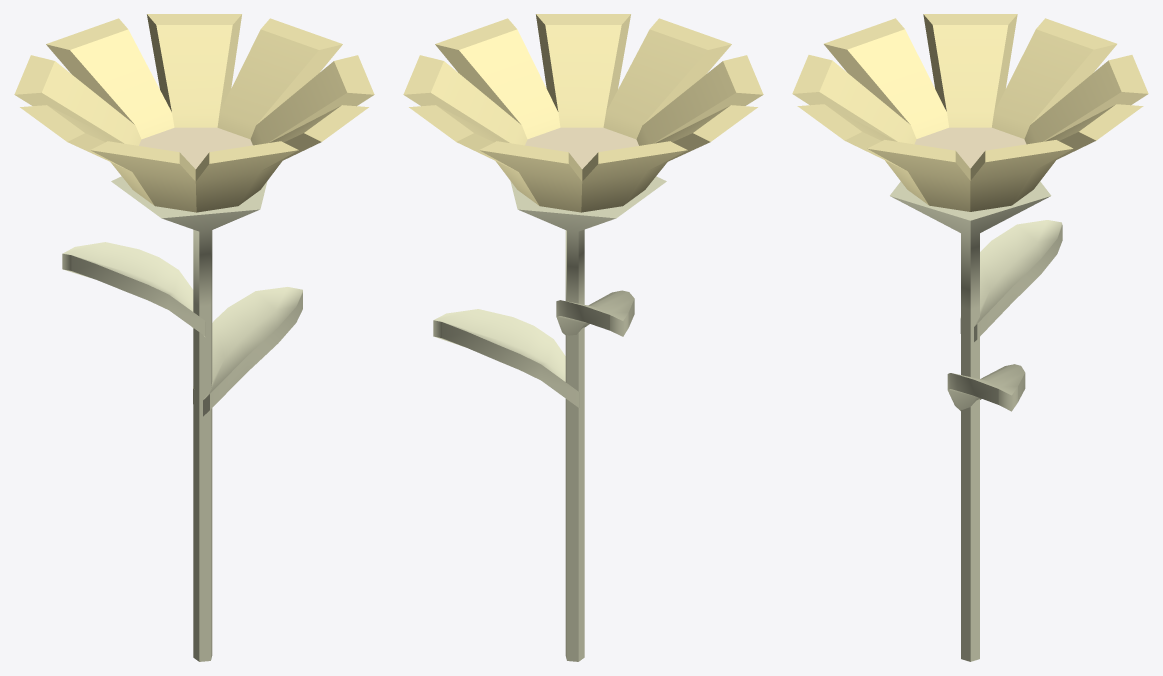
The model's file is Flor04.gltf.
3 views of the same model, side by side, from view 1: azimuth 30°, elevation 25°; view 2: azimuth 150°, elevation 25°; view 3: azimuth 270°, elevation 25° (orthographic).
Parts seen in each view (by area): view 1: pPipe19, pPipe17, pCube10, pCube11, pCylinder3; view 2: pPipe19, pPipe17, pCube10, pCube11, pCylinder3; view 3: pPipe19, pPipe17, pCube11, pCube10, pCylinder3.
Part boxes in pixels (x1,y1,x2,y2): pPipe19: [14, 14, 374, 212]; pPipe17: [111, 176, 267, 661]; pCube10: [193, 287, 302, 416]; pCube11: [62, 242, 205, 337]; pCylinder3: [139, 127, 252, 169]; pPipe19: [403, 14, 763, 212]; pPipe17: [510, 176, 666, 661]; pCube10: [433, 309, 579, 408]; pCube11: [556, 290, 634, 336]; pCylinder3: [525, 127, 638, 169]; pPipe19: [792, 14, 1148, 211]; pPipe17: [890, 181, 1051, 661]; pCube11: [960, 220, 1062, 341]; pCube10: [947, 364, 1025, 411]; pCylinder3: [914, 127, 1026, 168].
Bounding box in the file's own units: 0.3416 × 0.6083 × 0.3469.
